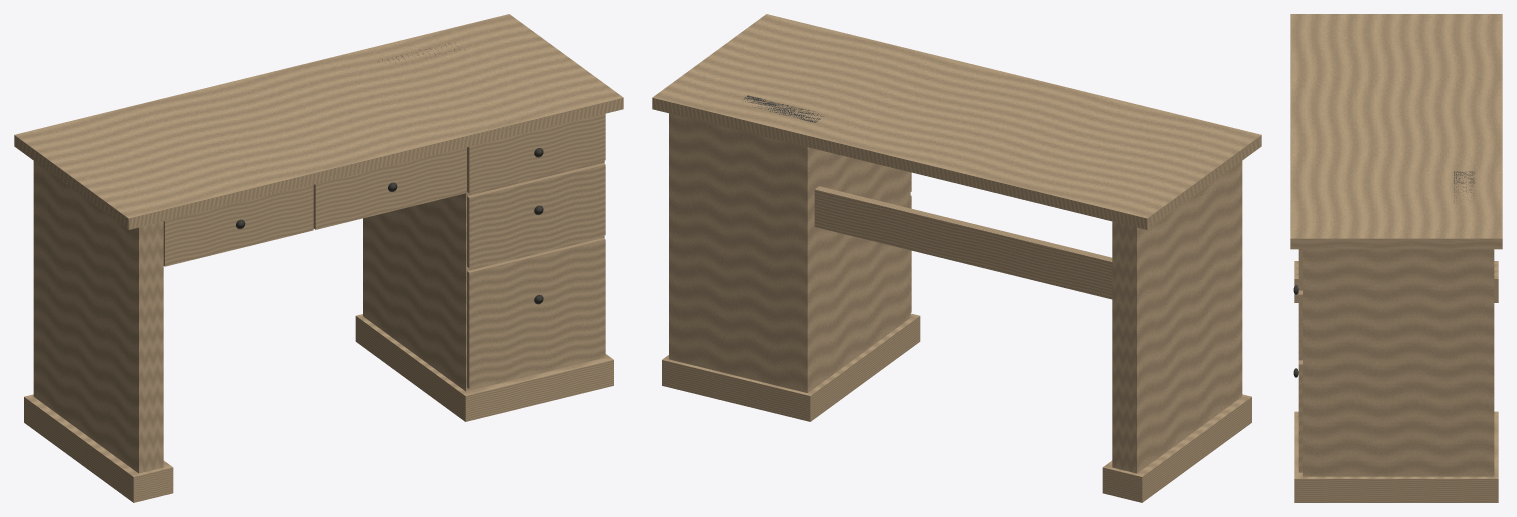
3 renders of one model, left to right at view 1: azimuth 30°, elevation 25°; view 2: azimuth 150°, elevation 25°; view 3: azimuth 270°, elevation 25°, orthographic. The views are drawn at different scales.
Parts seen in each view (by area): view 1: 1 desktop, 4 left_leg_panel, 6 right_pedestal_body, 12 right_bottom_drawer, 11 right_middle_drawer, 5 right_pedestal_base, 9 center_right_drawer, 8 center_left_drawer, 10 right_top_drawer, 3 left_leg_base; view 2: 1 desktop, 6 right_pedestal_body, 4 left_leg_panel, 7 center_modesty_panel, 5 right_pedestal_base, 3 left_leg_base; view 3: 1 desktop, 6 right_pedestal_body, 5 right_pedestal_base, 12 right_bottom_drawer, 3 left_leg_base, 11 right_middle_drawer.
Boxes of the visible parts, x1,y1,x2,y2 form: 1 desktop: (14,14,623,229); 4 left_leg_panel: (33,161,163,473); 6 right_pedestal_body: (363,148,604,391); 12 right_bottom_drawer: (467,238,605,389); 11 right_middle_drawer: (467,163,605,268); 5 right_pedestal_base: (355,314,613,421); 9 center_right_drawer: (313,147,466,229); 8 center_left_drawer: (163,185,313,266); 10 right_top_drawer: (467,113,605,193); 3 left_leg_base: (24,394,173,502); 1 desktop: (652,14,1261,229); 6 right_pedestal_body: (669,113,910,392); 4 left_leg_panel: (1112,161,1242,473); 7 center_modesty_panel: (814,186,1112,299); 5 right_pedestal_base: (662,313,920,421); 3 left_leg_base: (1102,394,1251,502); 1 desktop: (1290,14,1502,249); 6 right_pedestal_body: (1303,249,1494,476); 5 right_pedestal_base: (1294,411,1498,502); 12 right_bottom_drawer: (1298,360,1302,472); 3 left_leg_base: (1294,261,1498,302); 11 right_middle_drawer: (1298,290,1302,360).
Bounding box in the file's own units: 1.37 × 0.762 × 0.5486.
3 materials, 1 textured.
